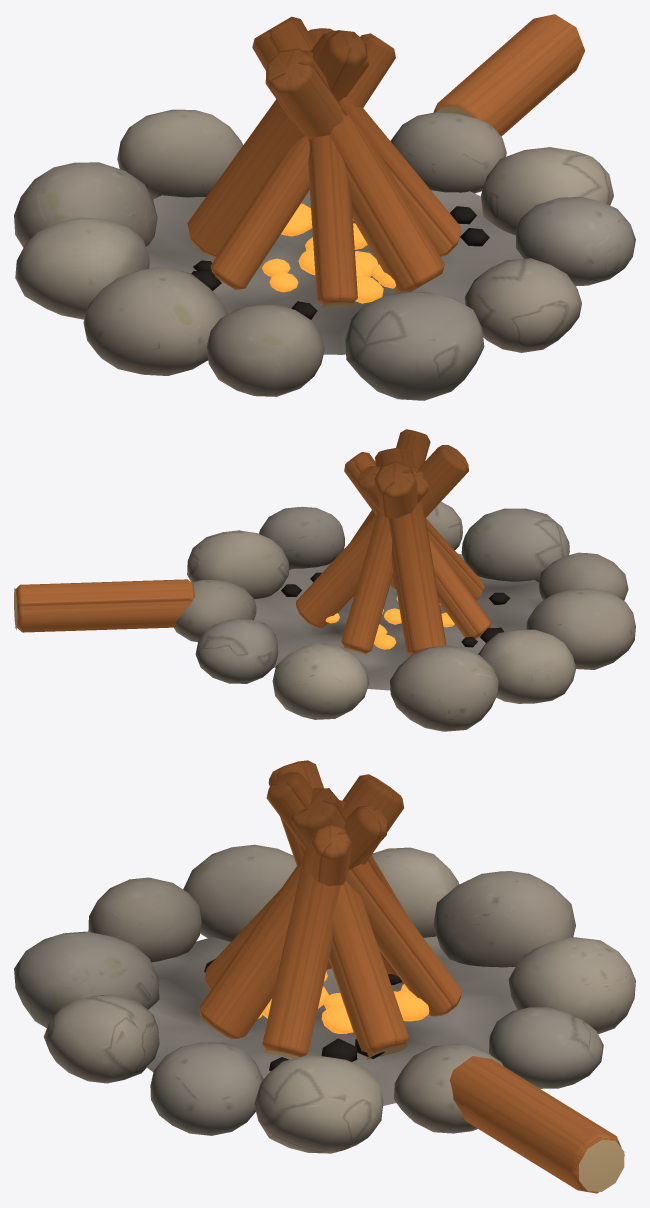
File: region-prop-4.glb
3 renders of one model, top to bottom at view 1: azimuth 30°, elevation 25°; view 2: azimuth 150°, elevation 25°; view 3: azimuth 270°, elevation 25°, orthographic. The views are drawn at different scales.
Visible parts, largest first — view 1: props_rock_3, props_wood_0, props_plain_1, props_ember_2; view 2: props_rock_3, props_wood_0, props_plain_1, props_ember_2; view 3: props_rock_3, props_wood_0, props_plain_1, props_ember_2.
Part boxes in pixels (<box>): props_rock_3: <box>14,109,635,400</box>; props_wood_0: <box>187,14,585,304</box>; props_plain_1: <box>146,106,523,354</box>; props_ember_2: <box>262,203,395,303</box>; props_rock_3: <box>174,502,635,731</box>; props_wood_0: <box>15,429,490,655</box>; props_plain_1: <box>14,553,542,690</box>; props_ember_2: <box>325,596,454,649</box>; props_rock_3: <box>14,844,635,1153</box>; props_wood_0: <box>199,760,624,1193</box>; props_plain_1: <box>146,936,624,1191</box>; props_ember_2: <box>258,971,429,1033</box>.
Bounding box in the file's own units: 2.24 × 0.901 × 1.86.
4 materials, 2 textured.
